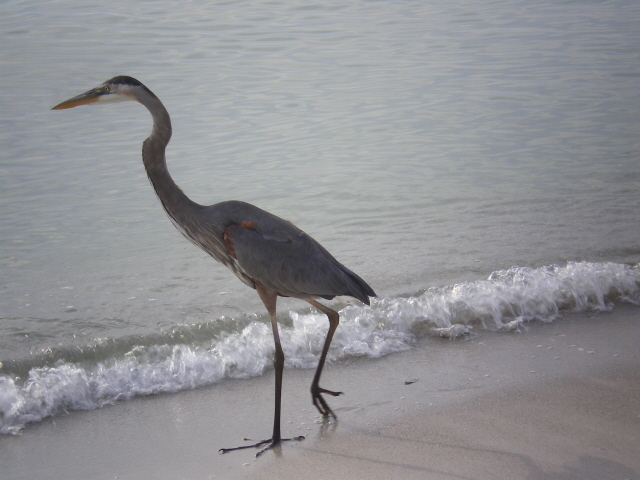heron: (50, 74, 380, 453)
